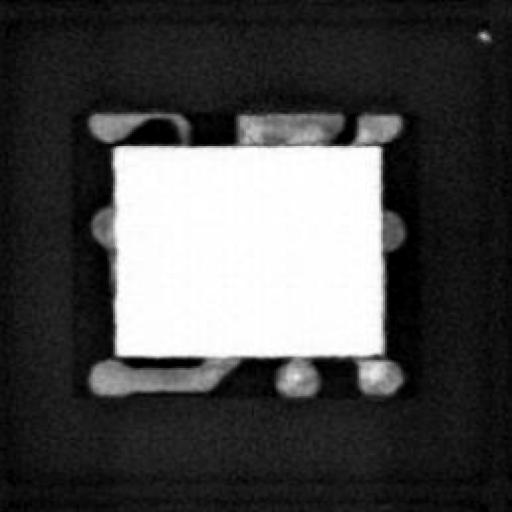DIE_INK: (474, 22, 490, 42)
